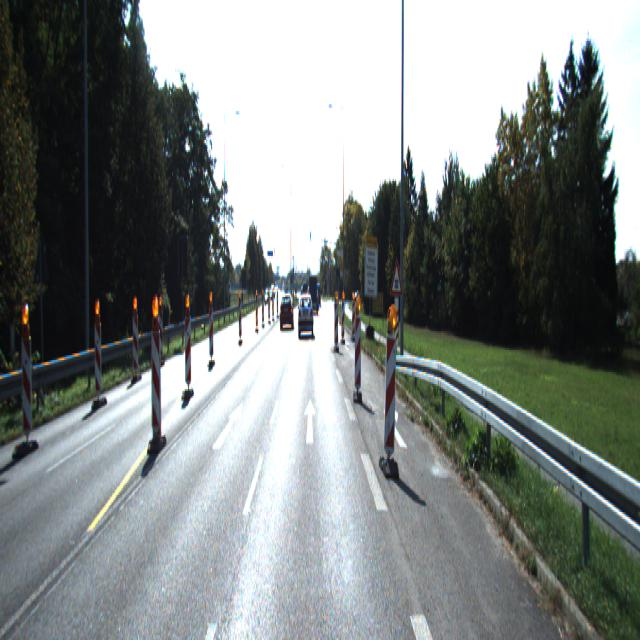Car: (298, 297, 314, 338), (280, 294, 294, 330), (308, 274, 318, 313)
